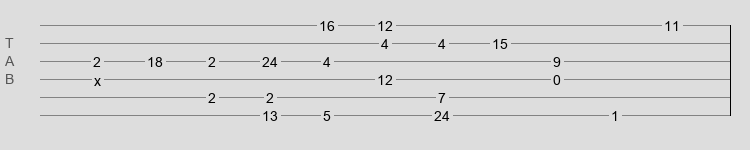0: (553, 72, 561, 82)
1: (611, 108, 619, 118)
11: (664, 18, 680, 28)
12: (377, 18, 393, 28), (377, 72, 393, 82)
13: (262, 108, 278, 118)
15: (492, 36, 508, 46)
16: (319, 18, 335, 28)
18: (147, 54, 163, 64)
2: (93, 54, 101, 64), (208, 90, 216, 100), (208, 54, 216, 64), (266, 90, 274, 100)
24: (262, 54, 278, 64), (434, 108, 450, 118)
4: (323, 54, 331, 64), (381, 36, 389, 46), (438, 36, 446, 46)
5: (323, 108, 331, 118)
7: (438, 90, 446, 100)
9: (553, 54, 561, 64)
x: (94, 73, 101, 81)
